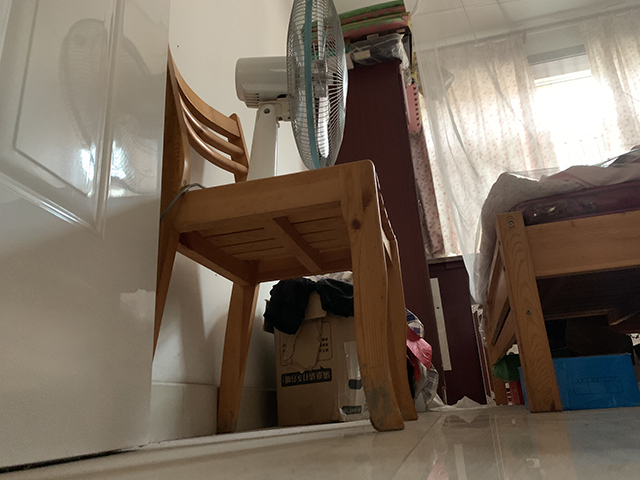bed: (474, 179, 640, 415)
cabinet: (335, 56, 487, 408)
stool: (153, 42, 423, 434)
